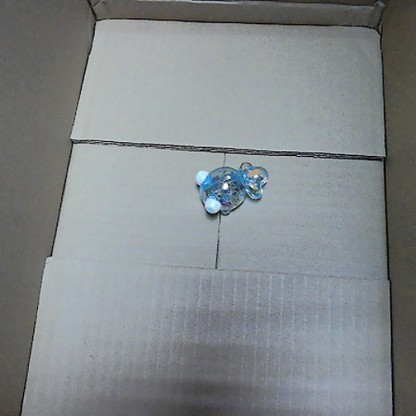bluefish: (190, 157, 272, 220)
